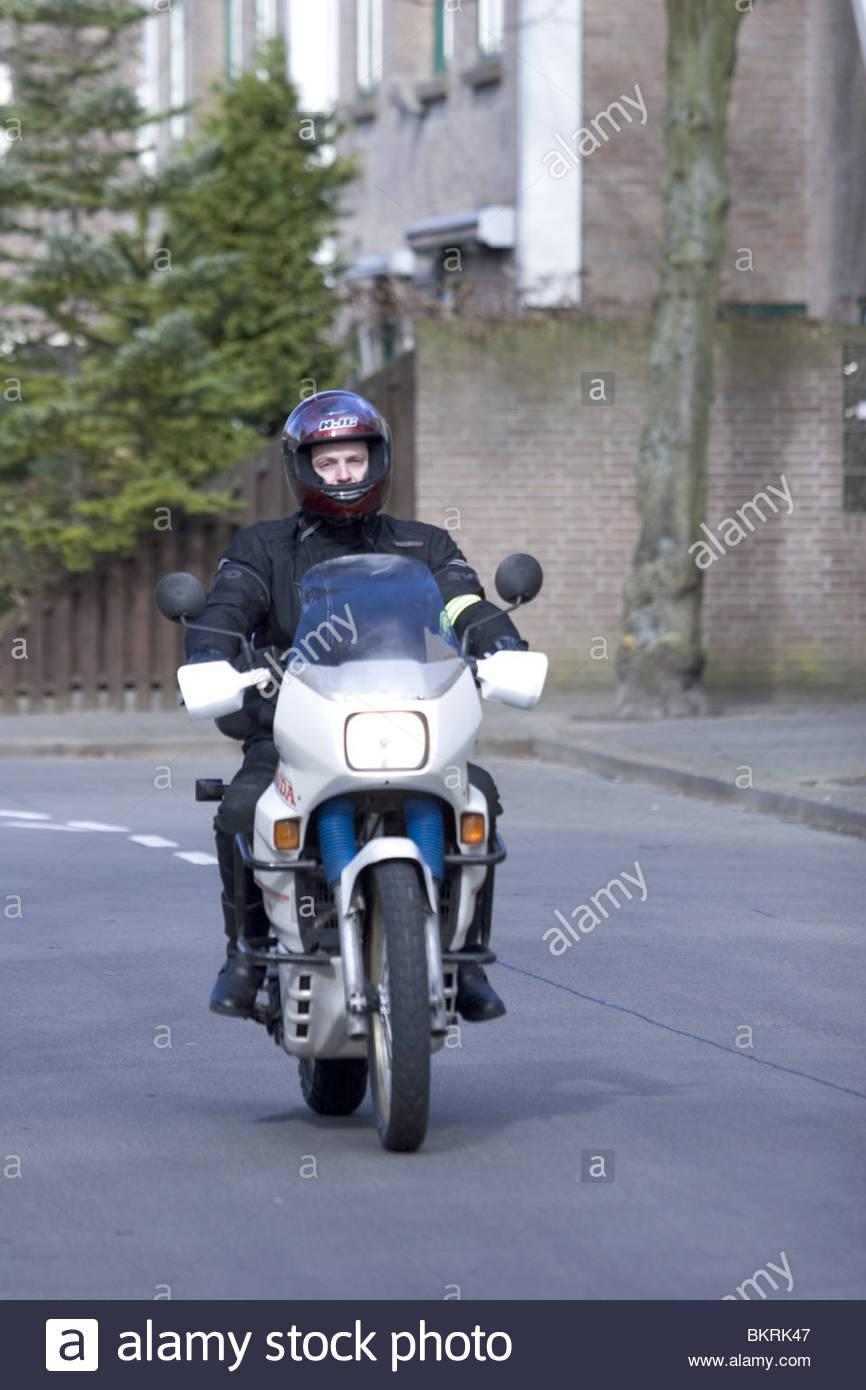helmet: (281, 388, 394, 530)
